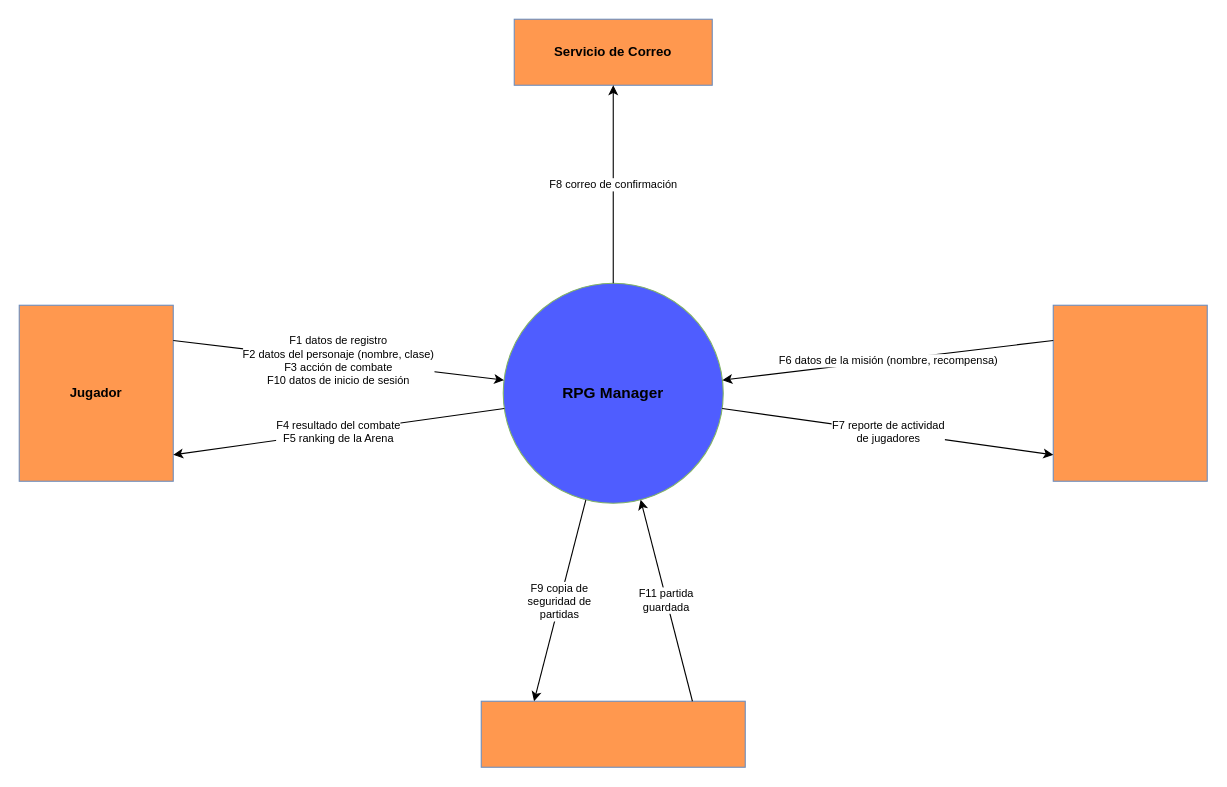
Image size: 1227x787. Some labels were removed from this diagram. Here are the shapes that lost their labels. From the top down, the centre of each, then its label:
pixel 1129 392: Game Master
pixel 612 733: Servicio de Respaldo en la Nube
